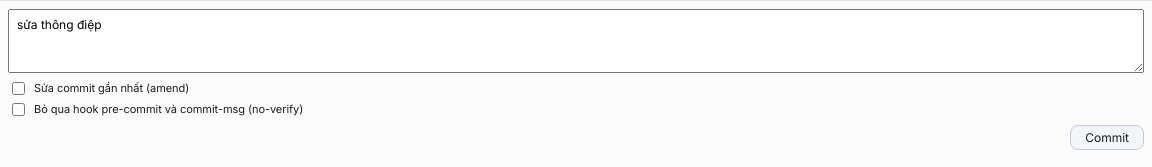
Scenario: chế độ amend — WORK-09 › bật amend → nhãn nút ĐỔI
Click the checkbox with test id "amend-toggle" at [18, 88], box top-left (12, 82), bottom-right (25, 95)
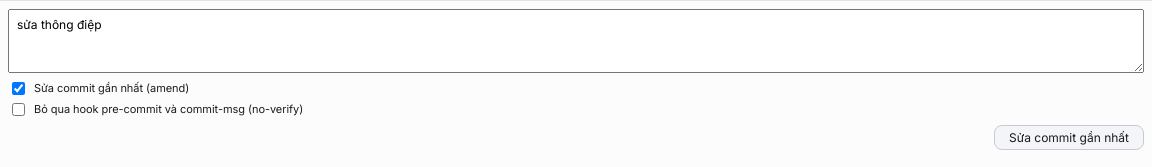
Expected: the element with test id "commit-button" no longer shows "Commit"
Expected: the button with test id "commit-button" reads "Sửa commit gần nhất", top-left (994, 125), bottom-right (1144, 150)
